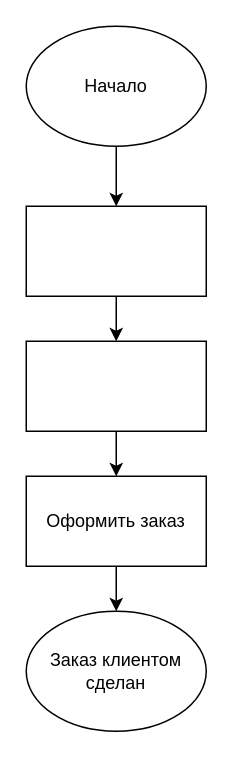
Some shapes in this 233 by 758 pixel diagram are drawn without their labels. The centre of each missing label's shape, as x and y in pixels:
"Выбор товара" goes at point (115, 250).
"Добавить в корзину" goes at point (115, 385).
